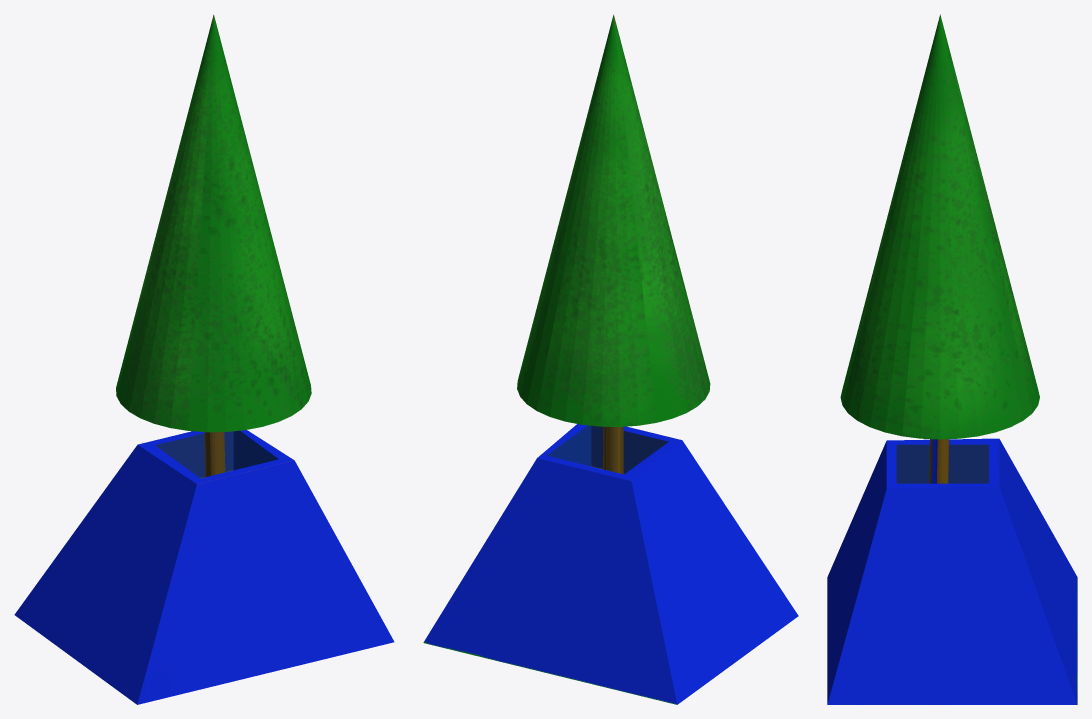
The model's file is pottedplant.glb.
3 renders of one model, left to right at view 1: azimuth 30°, elevation 25°; view 2: azimuth 150°, elevation 25°; view 3: azimuth 270°, elevation 25°, orthographic. The views are drawn at different scales.
Visible parts, largest first — view 1: Cube; view 2: Cube; view 3: Cube.
Boxes of the visible parts, x1,y1,x2,y2 form: Cube: (14, 14, 394, 704); Cube: (423, 14, 798, 704); Cube: (827, 14, 1077, 704).
Size of the model in its own units: 3.03 by 6.95 by 2.51.
Materials: 1 (1 with a texture image).
